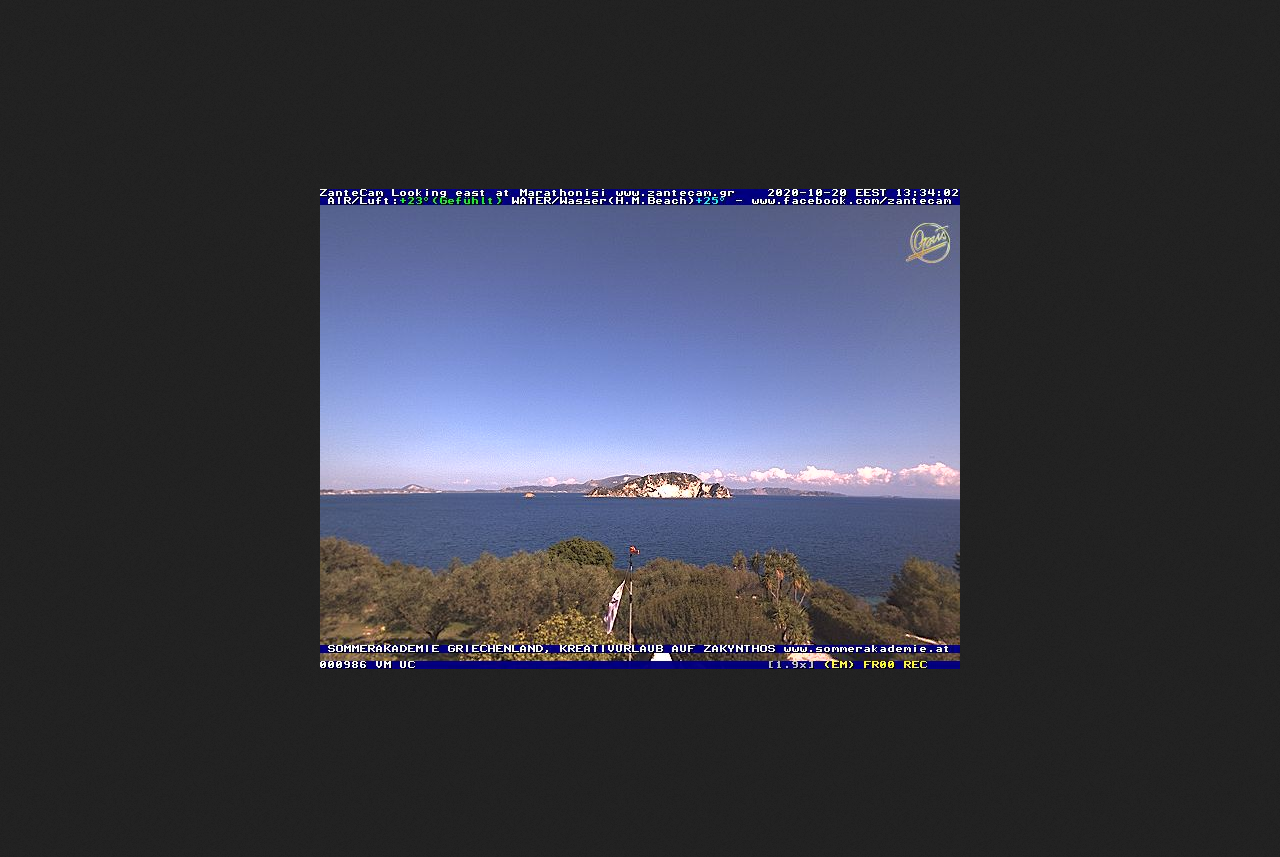maybe: (599, 576, 628, 637)
